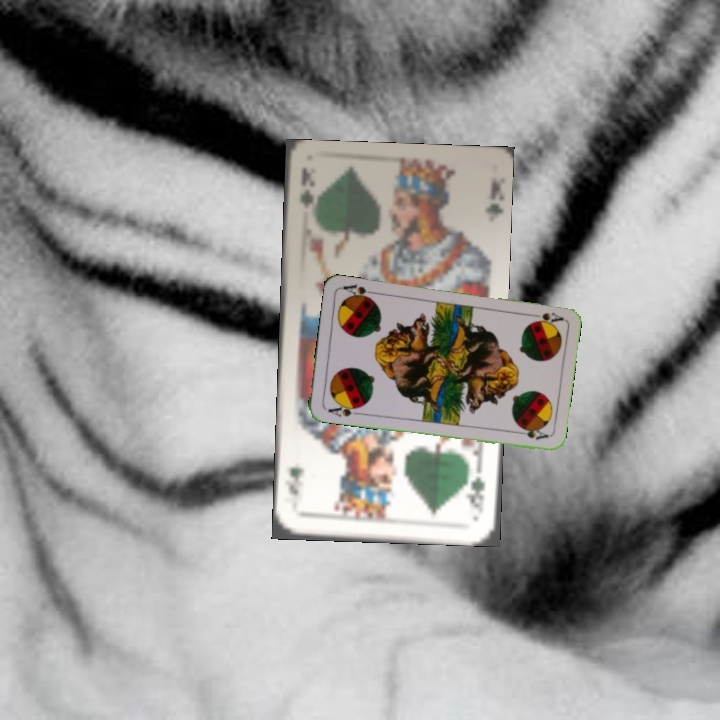GK: (466, 461, 488, 517), (295, 164, 317, 211)
SA: (324, 399, 363, 420), (525, 308, 566, 327)
